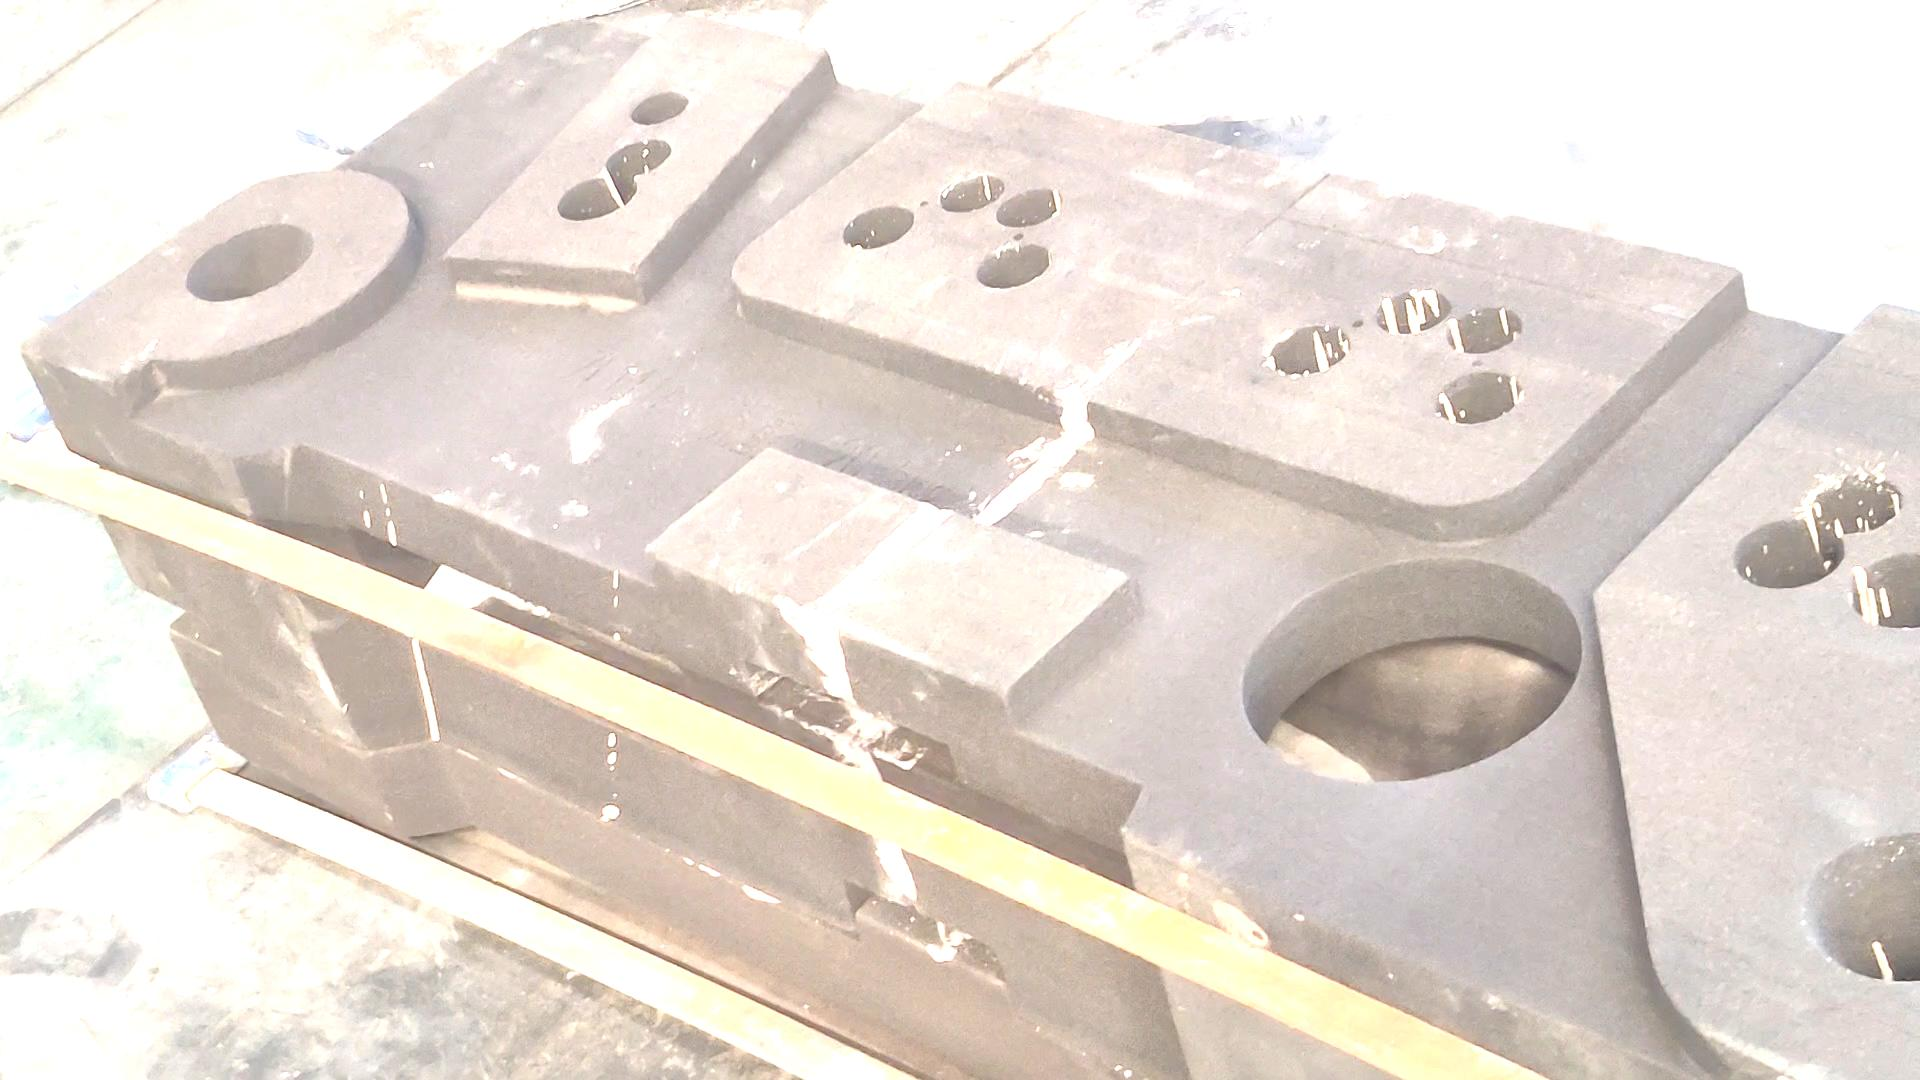pouring hole: (1803, 829, 1920, 984), (185, 223, 316, 303)
